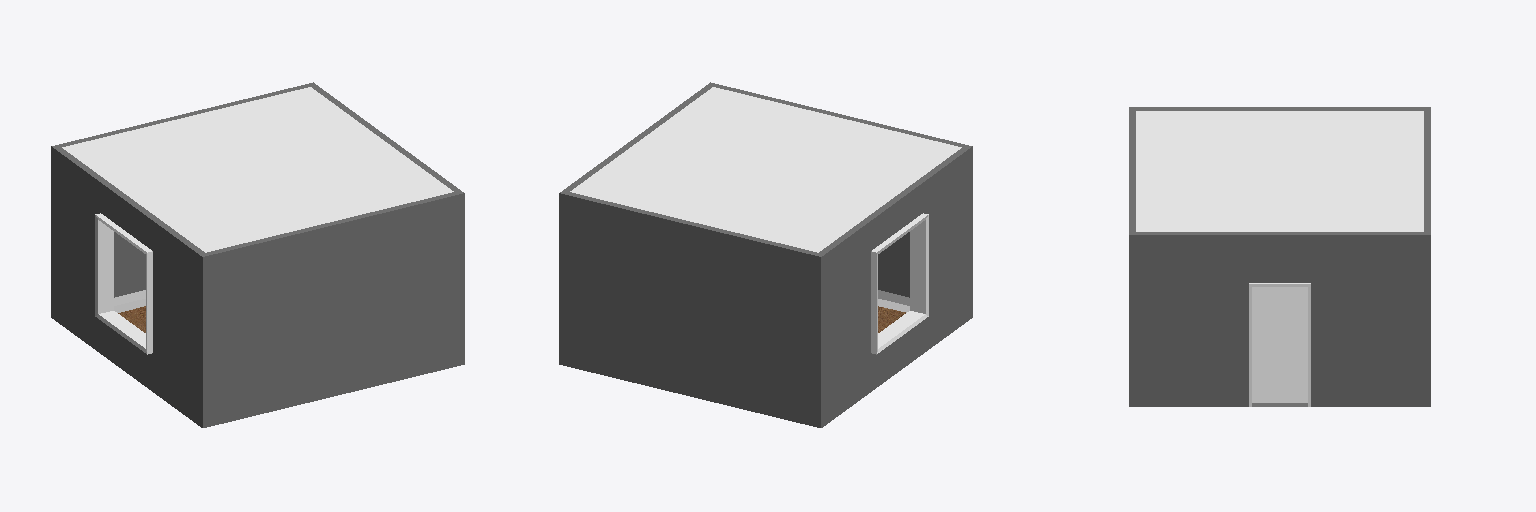
3 renders of one model, left to right at view 1: azimuth 30°, elevation 25°; view 2: azimuth 150°, elevation 25°; view 3: azimuth 270°, elevation 25°, orthographic.
Parts seen in each view (by area): view 1: Vert; view 2: Vert; view 3: Vert.
Boxes of the visible parts, <box> form: Vert: <box>51,82,464,427</box>; Vert: <box>559,82,972,427</box>; Vert: <box>1129,107,1430,406</box>.
Bounding box in the file's own units: 28.07 × 17.06 × 27.3.
Materials: 16 (1 with a texture image).